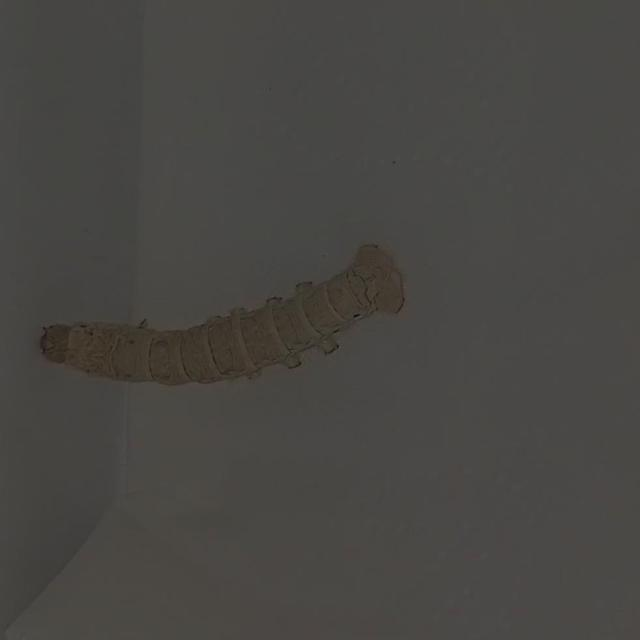Healthy: (20, 214, 478, 462)
